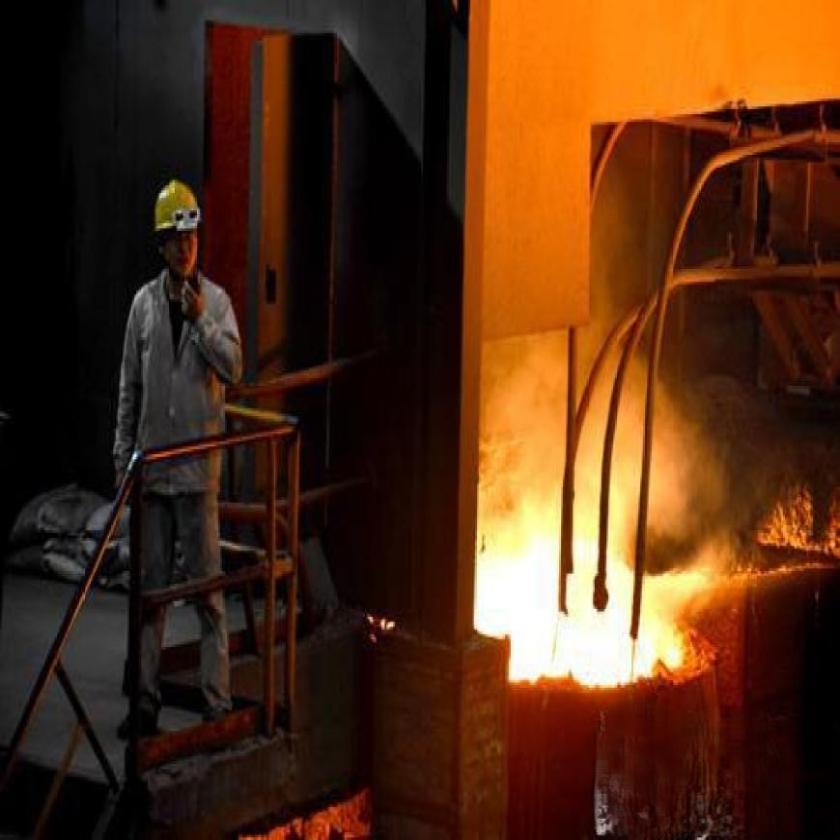Con_casco: (133, 179, 218, 283)
